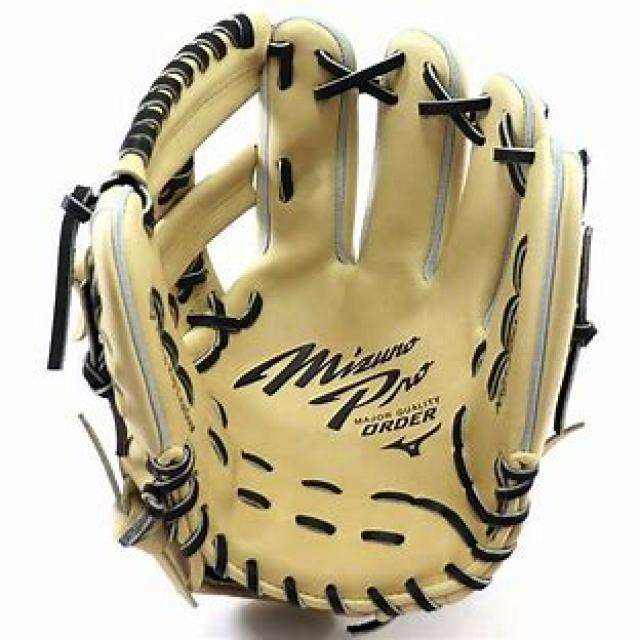glove: (42, 8, 603, 640)
